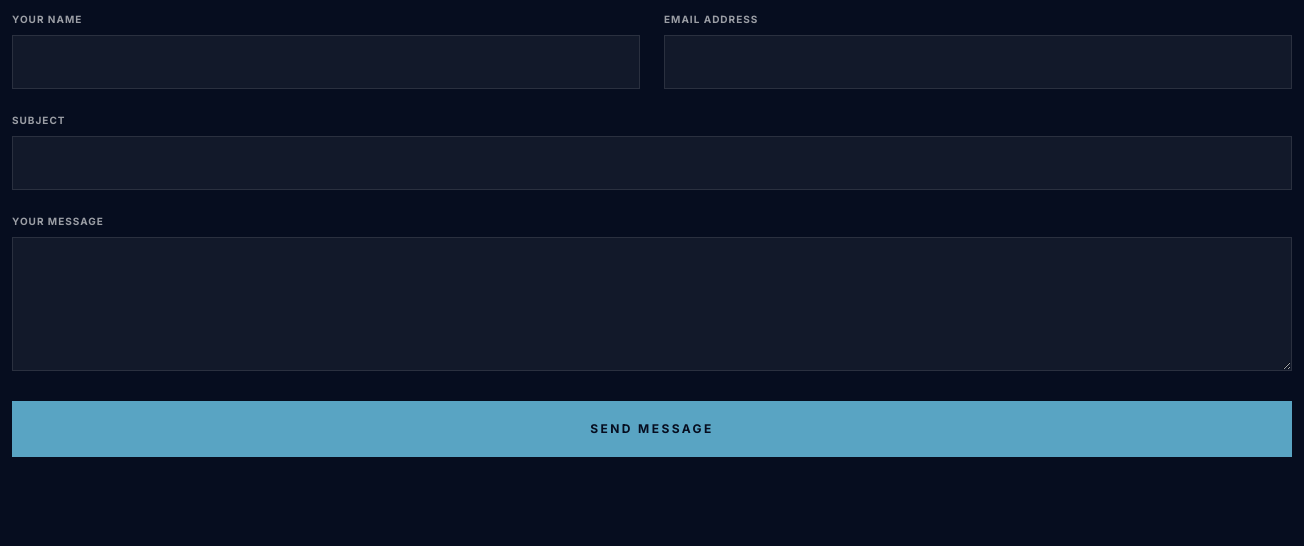
Scenario: ContactForm › shows a message next to each empty field, focuses the first, and sends nothing
Click the button "Send Message" at (652, 429), box [12,401,1292,457]
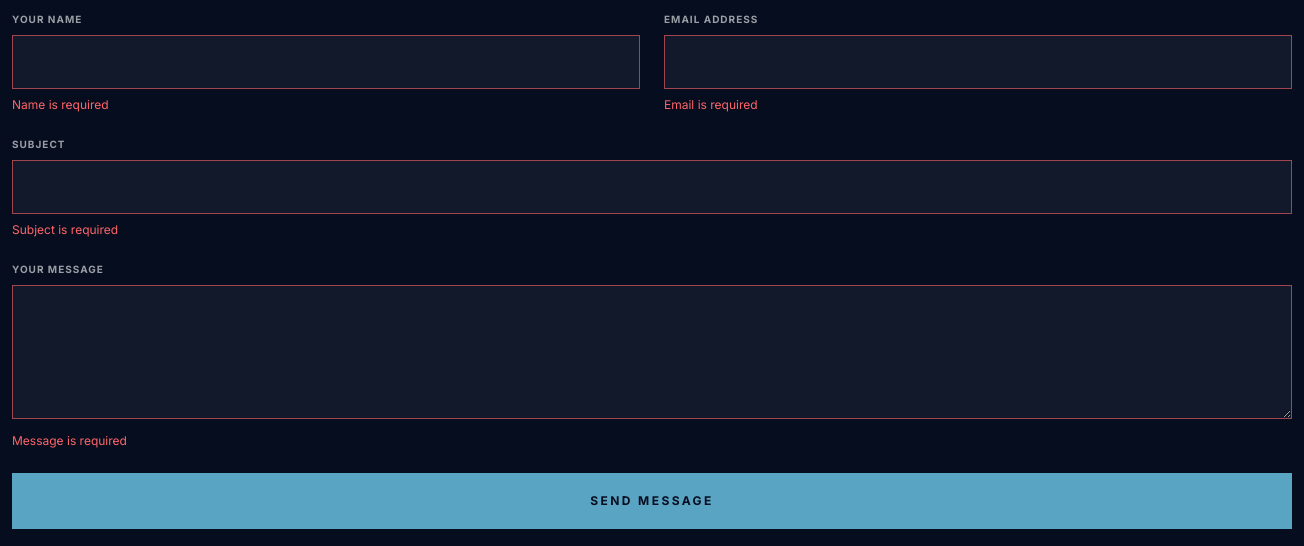
Now the text "Name is required" is shown, box [12,97,109,112]
Now the text "Email is required" is shown, box [664,97,758,112]
Now the text "Subject is required" is shown, box [12,222,118,237]
